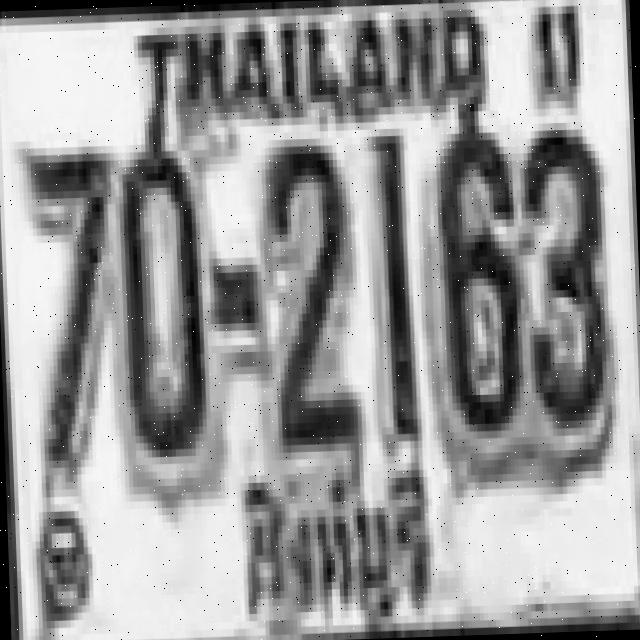0: (112, 132, 208, 454)
1: (367, 132, 414, 438), (371, 132, 414, 438), (371, 132, 413, 430)
2: (264, 137, 354, 446)
3: (520, 121, 610, 436)
6: (430, 120, 520, 428)
7: (20, 142, 119, 472)
SingBuri: (235, 454, 432, 640)
